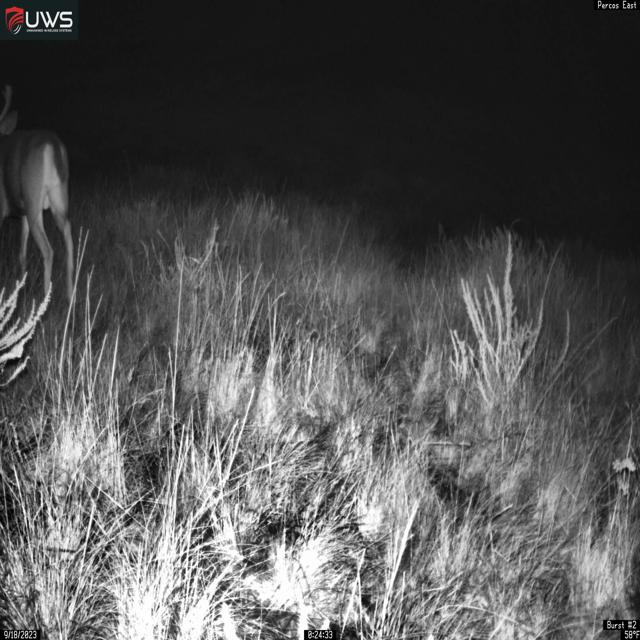deer: (0, 82, 78, 311)
